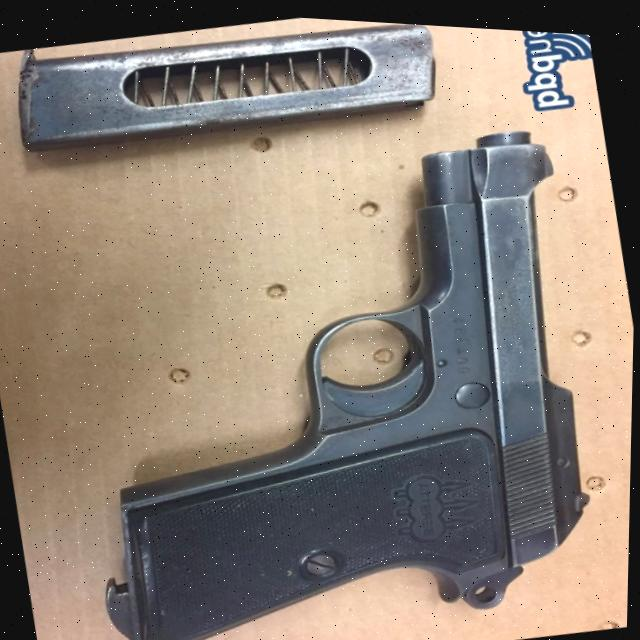pistol: (35, 93, 634, 640)
